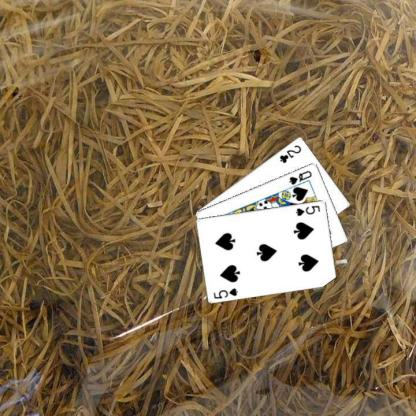2C: (277, 142, 303, 164)
5S: (212, 285, 239, 300), (294, 203, 321, 217)
QS: (287, 168, 313, 186)
